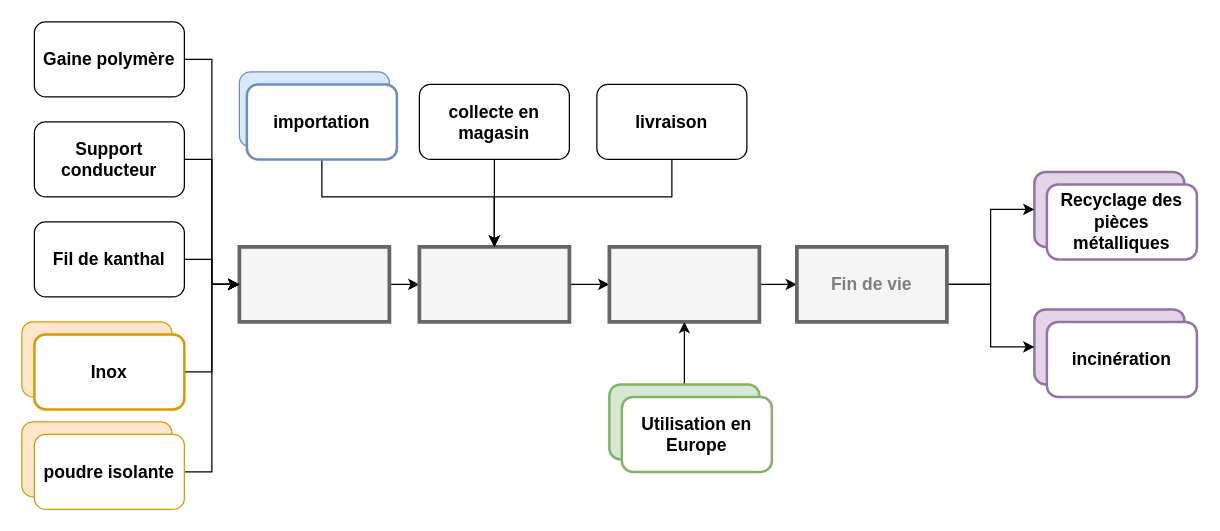
Image size: 1220x531. Some labels were removed from this diagram. Each missing label, with the centre of its shape:
Distribution: pixel 494 283
Production: pixel 314 283
Utilisation: pixel 684 283
